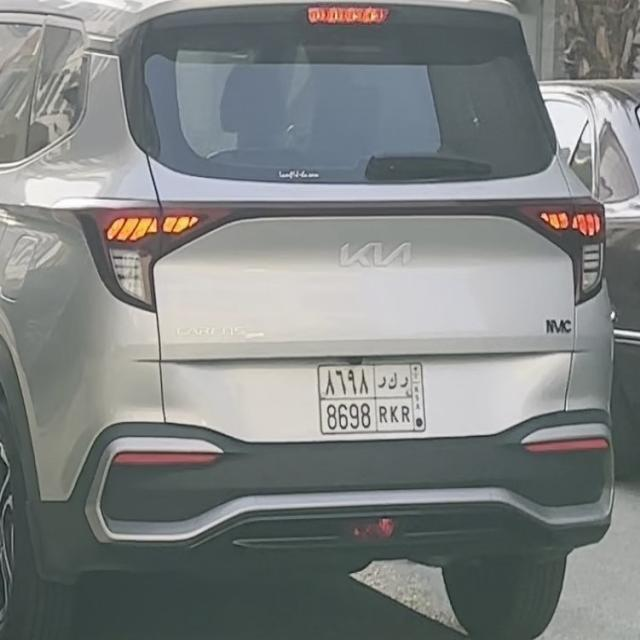Car-plate: (308, 356, 446, 444)
